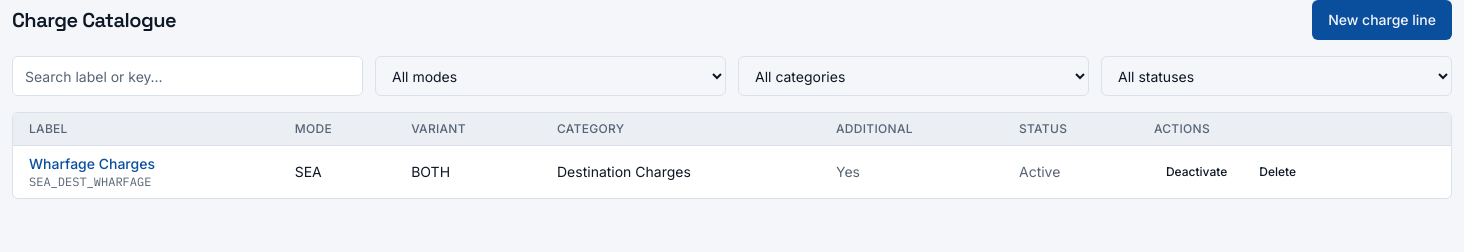
it: ChargeCatalogueListPage › surfaces the 409 in-use message from Delete instead of a generic failure
This screenshot has width=1464, height=252.
Check: the link "Wharfage Charges" is shown, box [29,154,155,174]
Click the button with aria-label "delete wharfage charges" at (1278, 172), box [1247,156,1308,188]
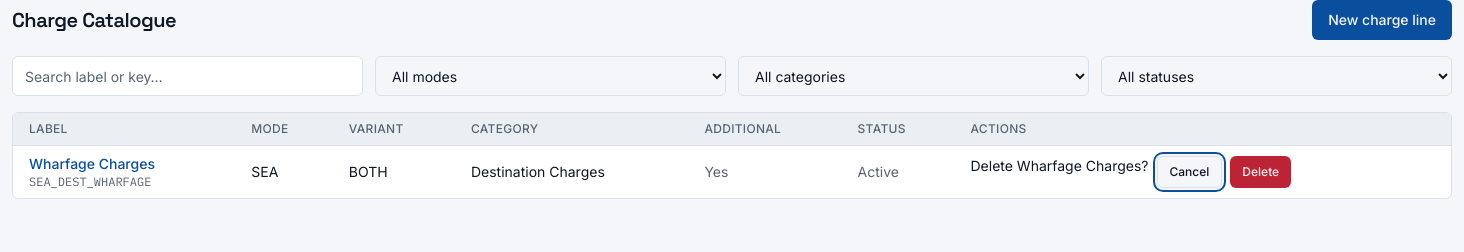
Click the button "Delete" at (1261, 172), box [1230,156,1291,188]
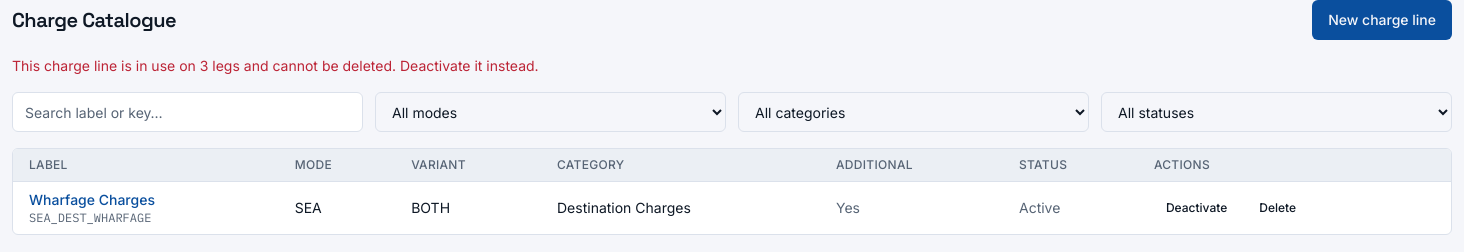
Check: the link "Wharfage Charges" is shown, box [29,190,155,210]
Check: the message shows "in use on 3 legs and cannot be deleted", box [12,57,539,74]
